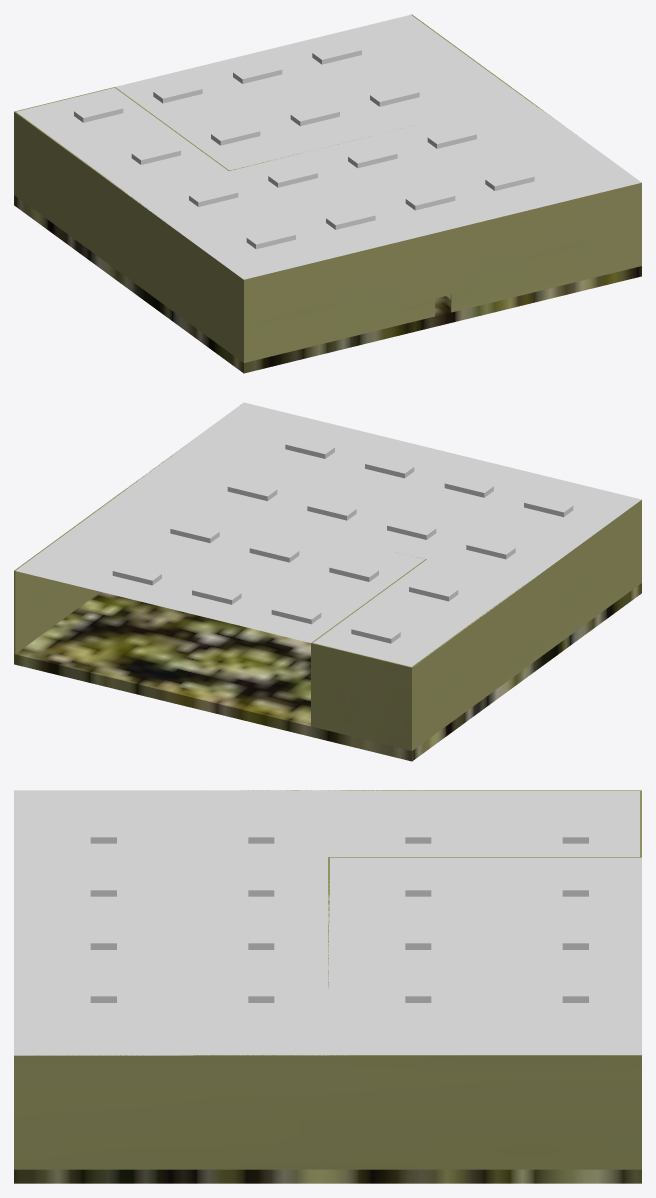
The model's file is BackroomsLevelZero - 17.fbx.
3 renders of one model, top to bottom at view 1: azimuth 30°, elevation 25°; view 2: azimuth 150°, elevation 25°; view 3: azimuth 270°, elevation 25°, orthographic. The views are drawn at different scales.
Visible parts, largest first — view 1: Floor.036, Wall.047, Wall.048, Floor.018, Cube.237, Cube.232, Cube.214, Cube.222, Cube.224, Cube.227, Cube.230, Cube.211 (+8 smaller); view 2: Floor.036, Floor.018, Wall.048, Wall.049, Wall.046, Cube.229, Cube.238, Cube.214, Cube.216, Cube.219, Cube.224, Cube.230 (+9 smaller); view 3: Floor.036, Wall.046, Floor.018, Cube.211, Cube.213, Cube.214, Cube.216, Cube.219, Cube.221, Cube.222, Cube.224, Cube.227 (+7 smaller).
Part boxes in pixels (left/top/right/bottom): Floor.036: left=16, top=14, right=641, bottom=279; Wall.047: left=243, top=182, right=641, bottom=362; Wall.048: left=14, top=111, right=244, bottom=362; Floor.018: left=14, top=195, right=641, bottom=373; Cube.237: left=405, top=189, right=455, bottom=210; Cube.232: left=370, top=85, right=419, bottom=106; Cube.214: left=153, top=82, right=202, bottom=103; Cube.222: left=268, top=166, right=317, bottom=187; Cube.224: left=326, top=208, right=375, bottom=229; Cube.227: left=233, top=62, right=282, bottom=83; Cube.230: left=312, top=43, right=361, bottom=64; Cube.211: left=74, top=101, right=123, bottom=122; Floor.036: left=15, top=402, right=641, bottom=666; Floor.018: left=14, top=583, right=641, bottom=761; Wall.048: left=412, top=500, right=641, bottom=750; Wall.049: left=311, top=642, right=412, bottom=750; Wall.046: left=14, top=405, right=240, bottom=653; Cube.229: left=249, top=541, right=299, bottom=562; Cube.238: left=227, top=480, right=277, bottom=501; Cube.214: left=271, top=603, right=321, bottom=624; Cube.216: left=329, top=560, right=378, bottom=581; Cube.219: left=466, top=538, right=515, bottom=559; Cube.224: left=444, top=476, right=493, bottom=497; Cube.230: left=112, top=564, right=161, bottom=585; Floor.036: left=14, top=790, right=641, bottom=1055; Wall.046: left=14, top=1055, right=641, bottom=1169; Floor.018: left=14, top=1169, right=641, bottom=1183; Cube.211: left=562, top=810, right=588, bottom=843; Cube.213: left=405, top=810, right=431, bottom=843; Cube.214: left=562, top=863, right=588, bottom=896; Cube.216: left=405, top=863, right=431, bottom=896; Cube.219: left=248, top=810, right=274, bottom=843; Cube.221: left=90, top=810, right=116, bottom=843; Cube.222: left=248, top=863, right=274, bottom=896; Cube.224: left=90, top=863, right=116, bottom=896; Cube.227: left=562, top=916, right=588, bottom=949.
Bounding box in the file's own units: 4000 × 946 × 4000.
